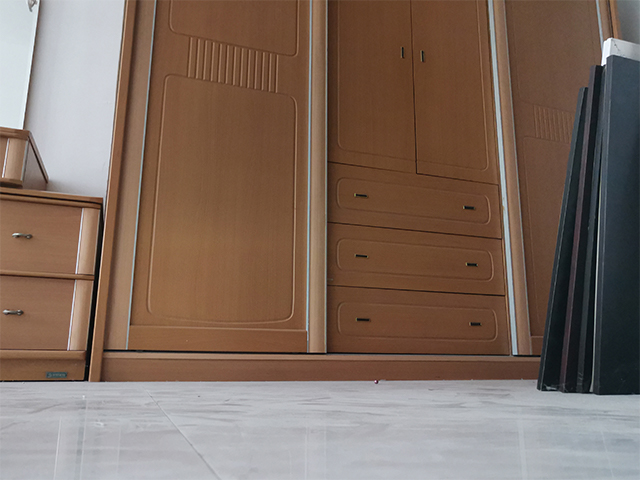cabinet: (90, 1, 615, 385), (1, 184, 102, 380)
